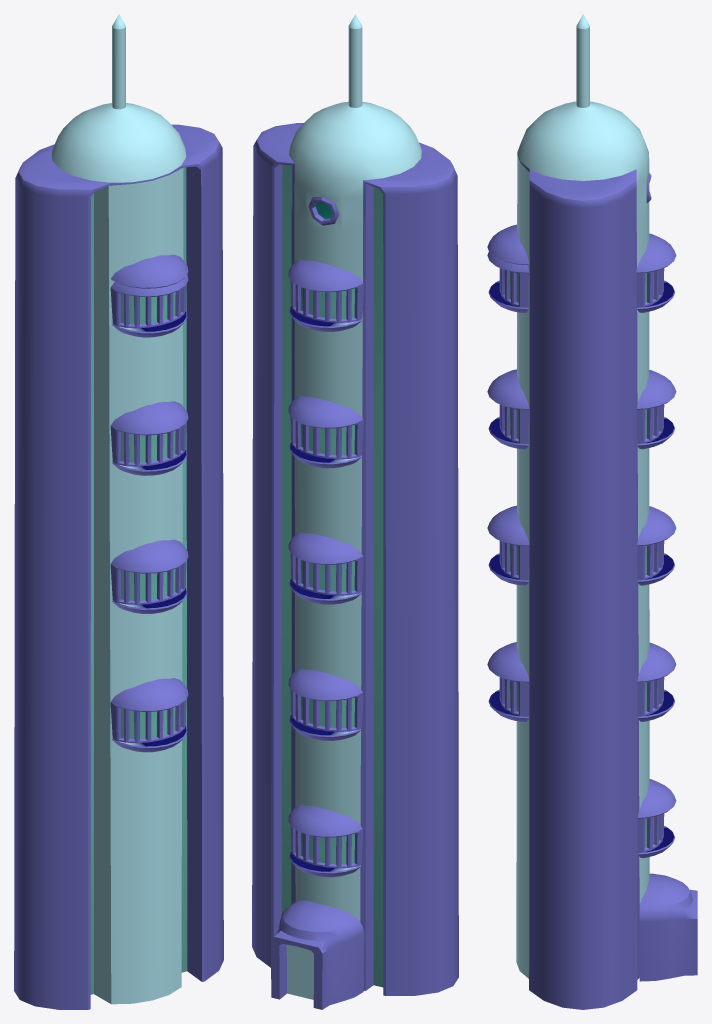
The model's file is SM_Skyscraper_21.fbx.
3 views of the same model, side by side, from view 1: azimuth 30°, elevation 25°; view 2: azimuth 150°, elevation 25°; view 3: azimuth 270°, elevation 25° (orthographic).
Visible parts, largest first — view 1: SM_Skyscraper_21; view 2: SM_Skyscraper_21; view 3: SM_Skyscraper_21.
Boxes of the visible parts, left/top/right/bottom form: SM_Skyscraper_21: left=14, top=14, right=223, bottom=1009; SM_Skyscraper_21: left=252, top=14, right=458, bottom=1009; SM_Skyscraper_21: left=487, top=14, right=697, bottom=1009.
Bounding box in the file's own units: 535 × 2476 × 498.
